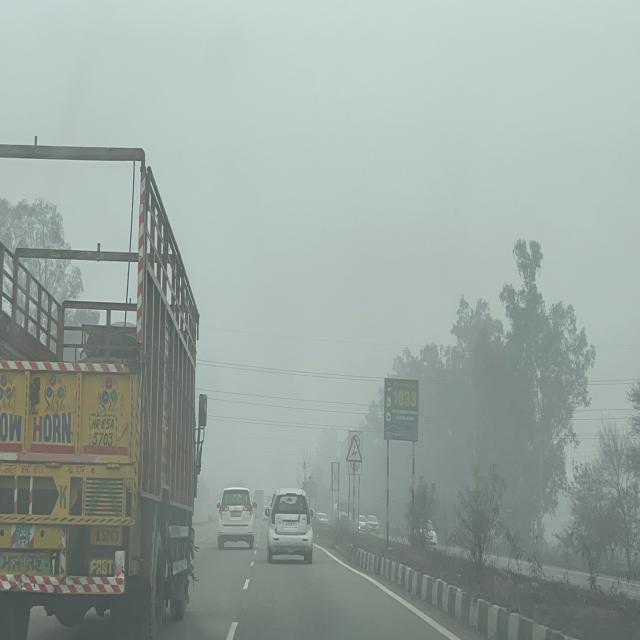WARNING: (346, 436, 363, 462)
